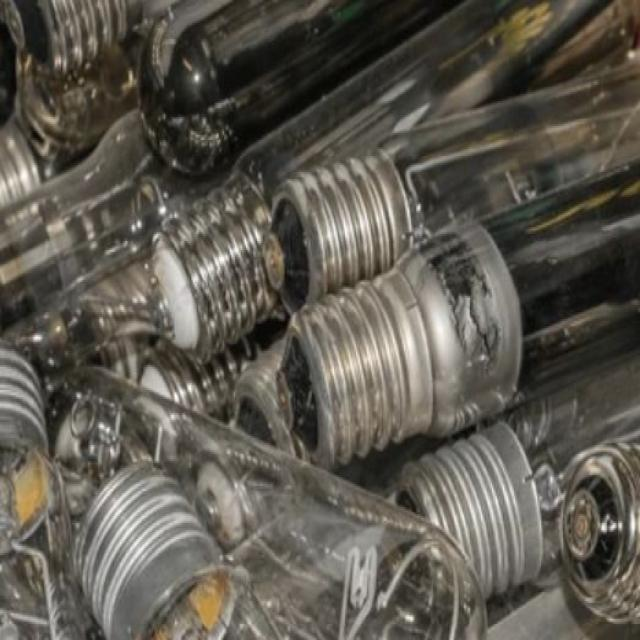electronic: (0, 0, 639, 638), (278, 213, 524, 466), (71, 459, 240, 638), (556, 436, 638, 626)
